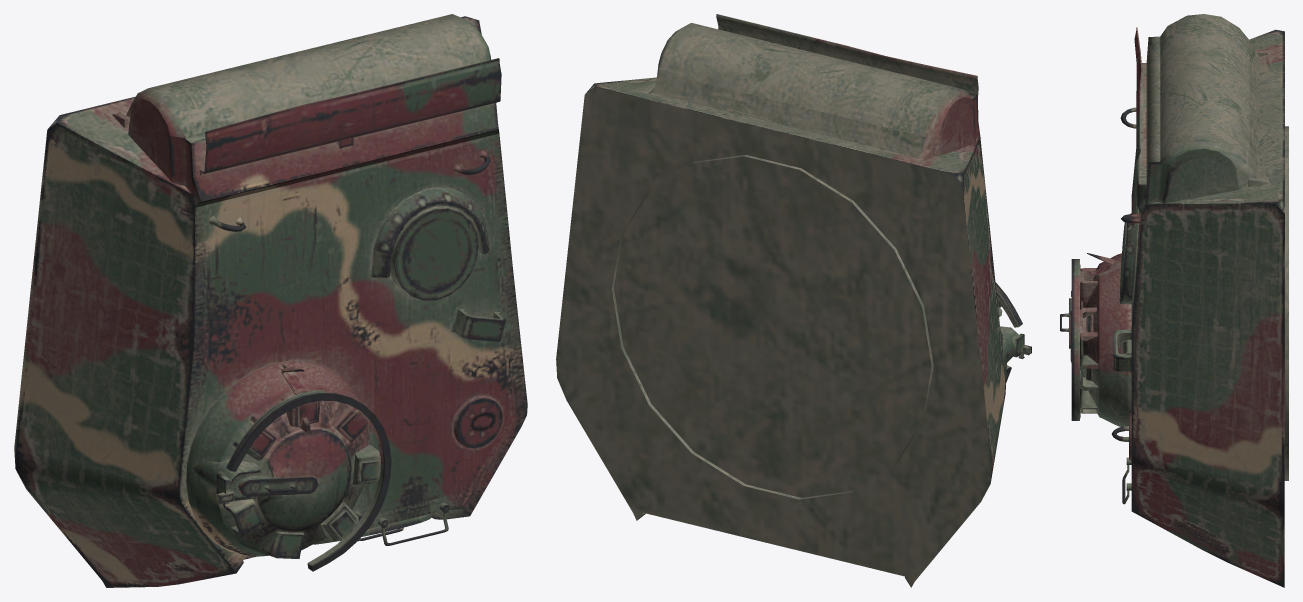
The model's file is Turret_01.glb.
The picture shows the model from 3 angles, left to right: view 1: azimuth 30°, elevation 25°; view 2: azimuth 150°, elevation 25°; view 3: azimuth 270°, elevation 25°; orthographic projection. The views are drawn at different scales.
Parts seen in each view (by area): view 1: set_0_group_0; view 2: set_0_group_0; view 3: set_0_group_0.
Part boxes in pixels (box(x1,y1,x2,y2)): set_0_group_0: box(14, 14, 527, 587); set_0_group_0: box(556, 14, 1031, 587); set_0_group_0: box(1060, 14, 1288, 587).
Size of the model in its own units: 2.56 by 2.6 by 1.21.
1 material, 1 textured.
